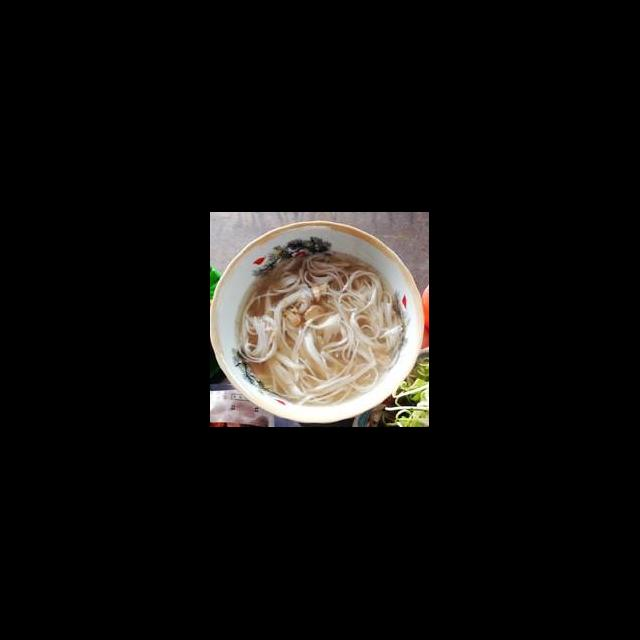bun: (232, 246, 408, 409)
